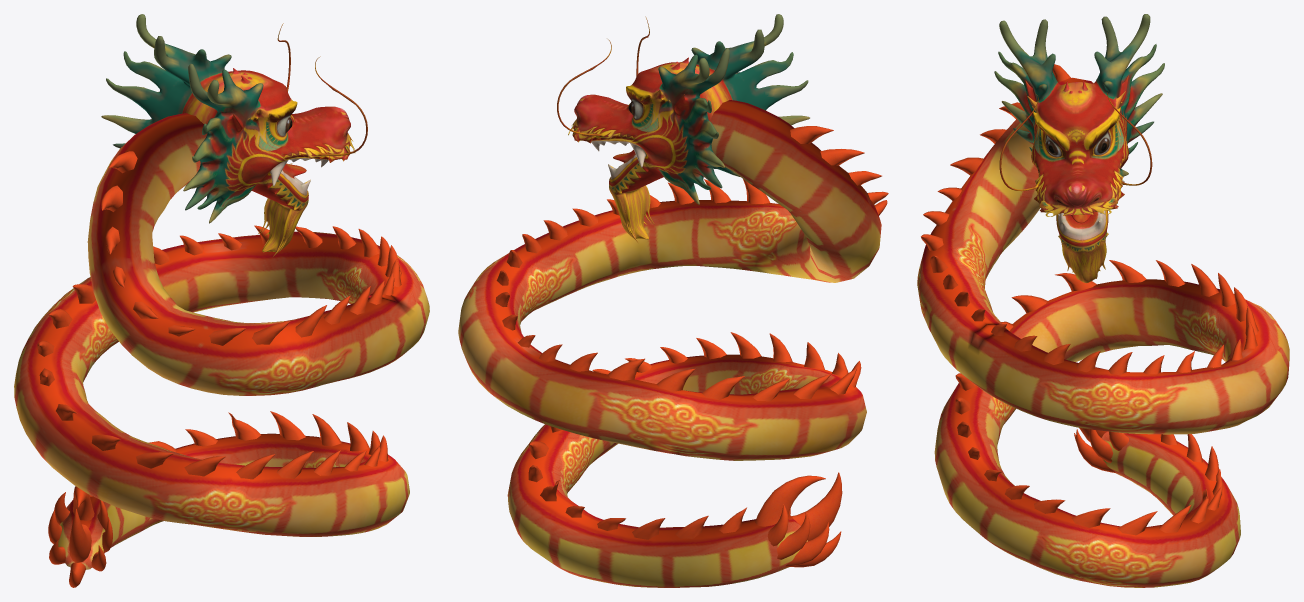
Rendered from Dragon.fbx.
3 renders of one model, left to right at view 1: azimuth 30°, elevation 25°; view 2: azimuth 150°, elevation 25°; view 3: azimuth 270°, elevation 25°, orthographic. The views are drawn at different scales.
Parts seen in each view (by area): view 1: TRaditionalDragon_001; view 2: TRaditionalDragon_001; view 3: TRaditionalDragon_001.
Boxes of the visible parts, x1,y1,x2,y2 form: TRaditionalDragon_001: (14,14,429,587); TRaditionalDragon_001: (458,14,888,587); TRaditionalDragon_001: (917,14,1289,587).
Size of the model in its own units: 499 by 685 by 458.
